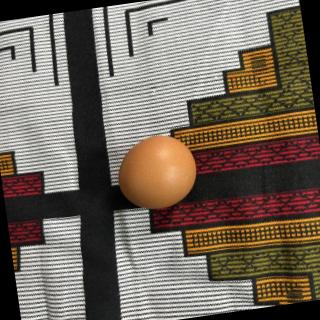Telur: (114, 131, 205, 217)
